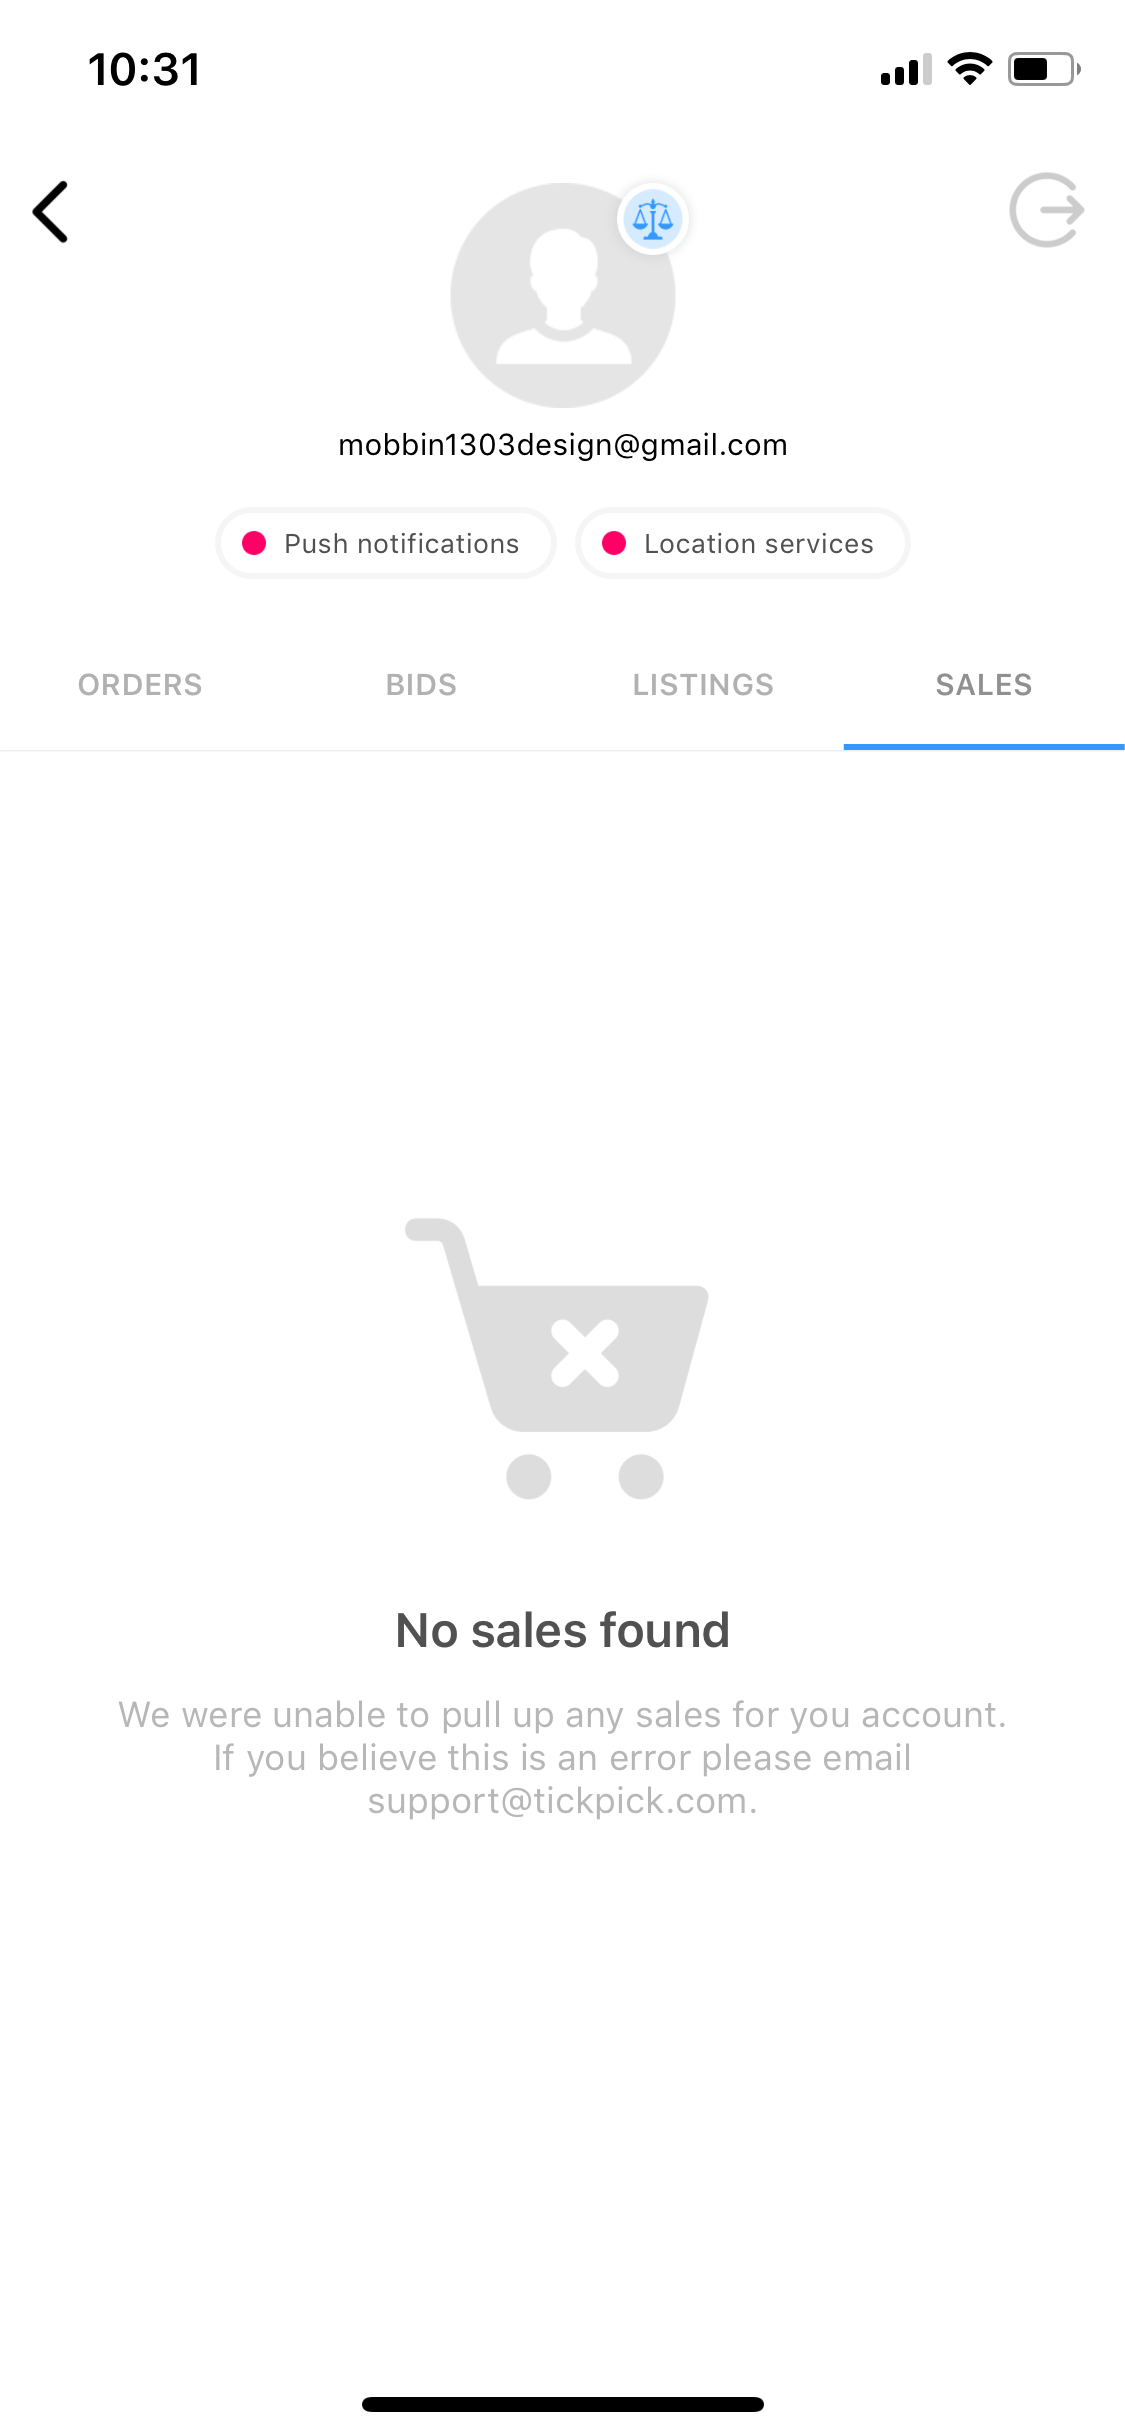Buttons: (973, 151, 1105, 275), (8, 154, 117, 273)
